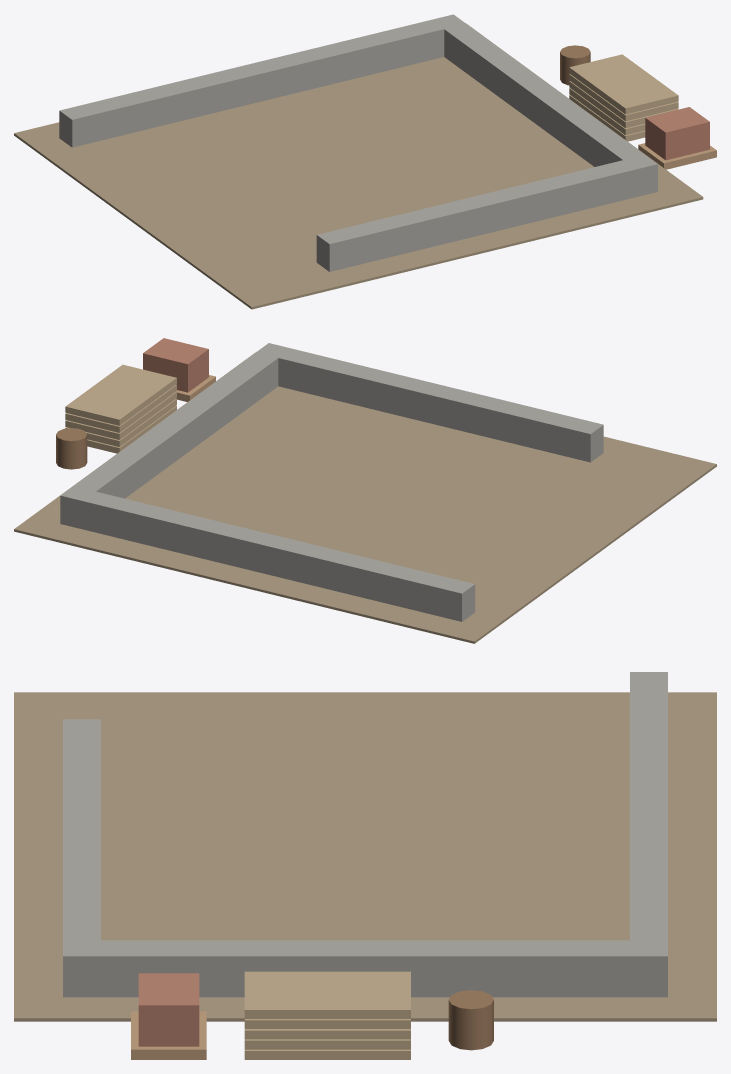
The model's file is garage_site_2.glb.
3 views of the same model, one above another, from view 1: azimuth 30°, elevation 25°; view 2: azimuth 150°, elevation 25°; view 3: azimuth 270°, elevation 25° (orthographic). The views are drawn at different scales.
Visible parts, largest first — view 1: body; view 2: body; view 3: body.
Boxes of the visible parts, <box> form: body: <box>14,14,716,309</box>; body: <box>14,338,716,643</box>; body: <box>14,672,716,1059</box>.
Bounding box in the file's own units: 2.28 × 0.15 × 1.86.
